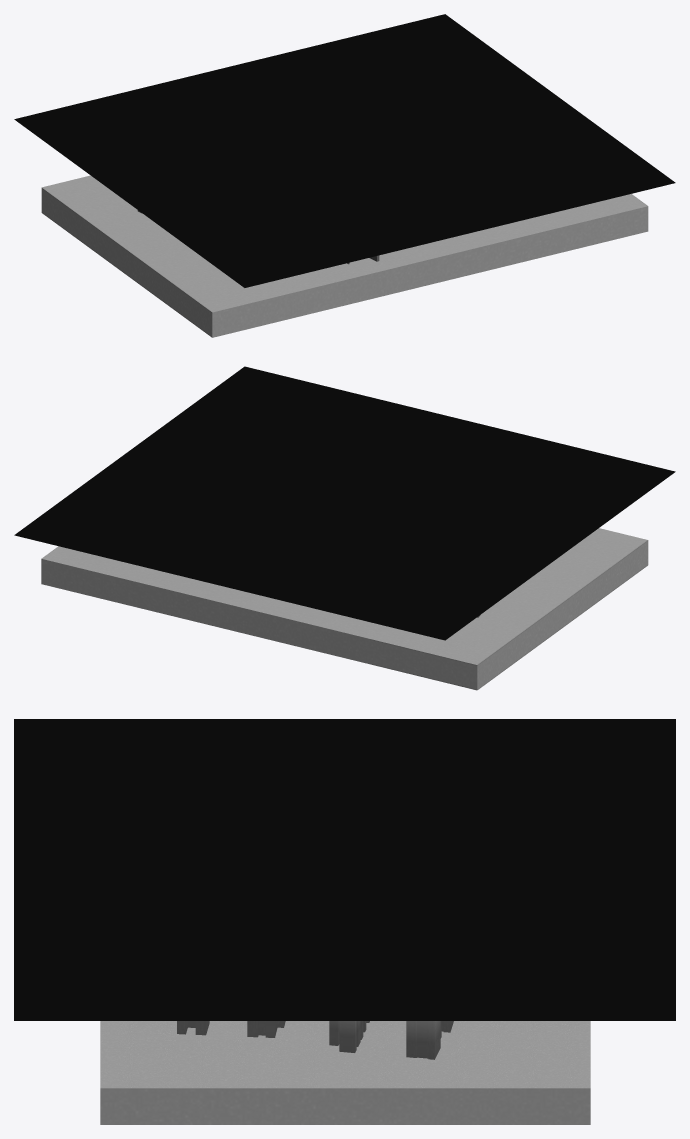
File: environmental3.glb
The picture shows the model from 3 angles, top to bottom: view 1: azimuth 30°, elevation 25°; view 2: azimuth 150°, elevation 25°; view 3: azimuth 270°, elevation 25°; orthographic projection. The views are drawn at different scales.
Visible parts, largest first — view 1: Plane_1, Cube; view 2: Plane_1, Cube; view 3: Plane_1, Cube, Building.
Boxes of the visible parts, box(x1,y1,x2,y2) form: Plane_1: box(14, 14, 675, 287); Cube: box(41, 175, 648, 337); Plane_1: box(14, 366, 675, 640); Cube: box(41, 528, 648, 690); Plane_1: box(14, 719, 675, 1020); Cube: box(100, 1021, 590, 1124); Building: box(177, 1021, 453, 1059).
Bounding box in the file's own units: 16.18 × 2.52 × 14.83.
Materials: 3 (3 with a texture image).
